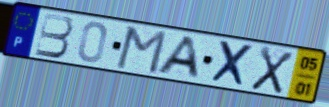0: (76, 20, 109, 64)
A: (153, 35, 201, 81)
B: (33, 12, 75, 60)
M: (114, 25, 170, 76)
X: (248, 44, 296, 96), (209, 39, 256, 90)
